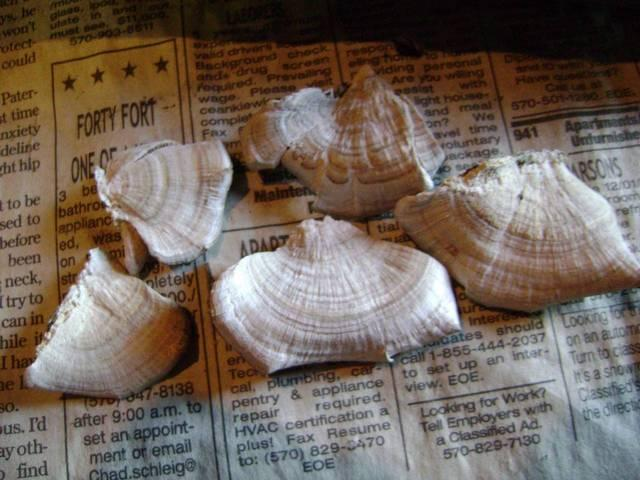Non-edible Mushroom: (208, 214, 463, 376), (393, 147, 639, 313), (239, 63, 446, 218), (22, 246, 193, 400), (92, 136, 234, 266)
